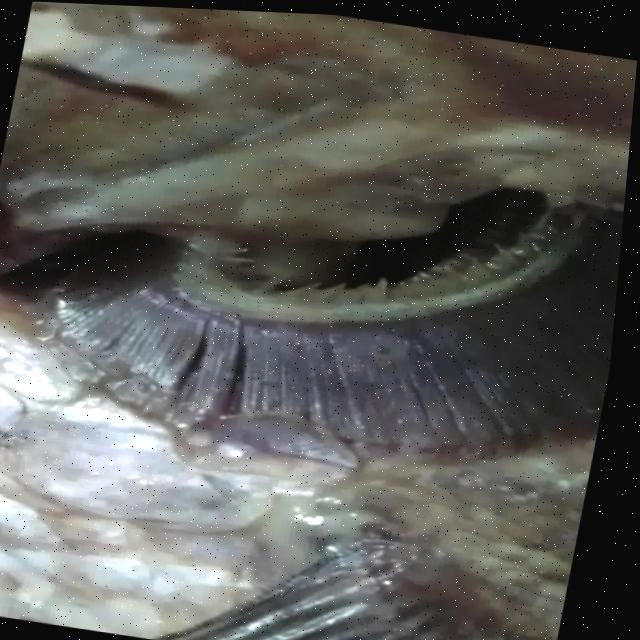Non-Fresh: (0, 139, 630, 529)
